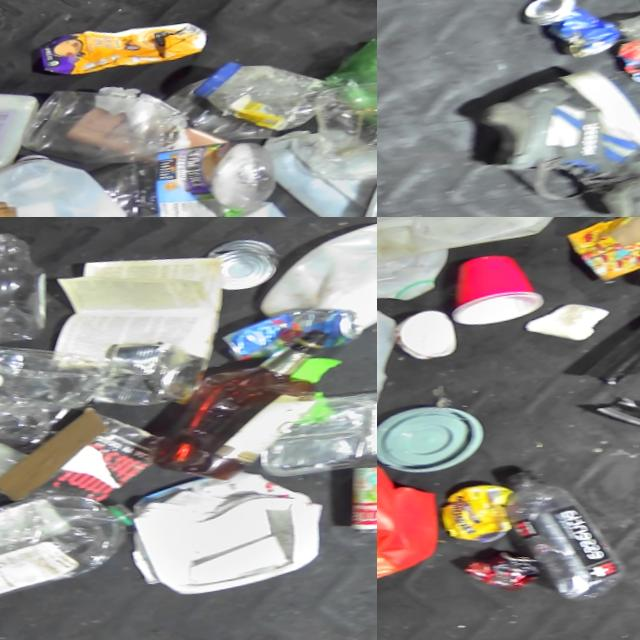can: (108, 330, 210, 415), (227, 299, 368, 360), (513, 0, 628, 66), (456, 539, 553, 594), (206, 238, 288, 294), (348, 458, 377, 537)
milk_jug: (269, 217, 377, 317), (0, 142, 120, 217), (377, 217, 453, 315), (387, 217, 566, 258), (377, 295, 408, 438)
non_white_jug: (377, 431, 458, 593)
plastic_bottle: (493, 451, 640, 608), (0, 481, 150, 603), (0, 348, 101, 419), (0, 230, 55, 354)
